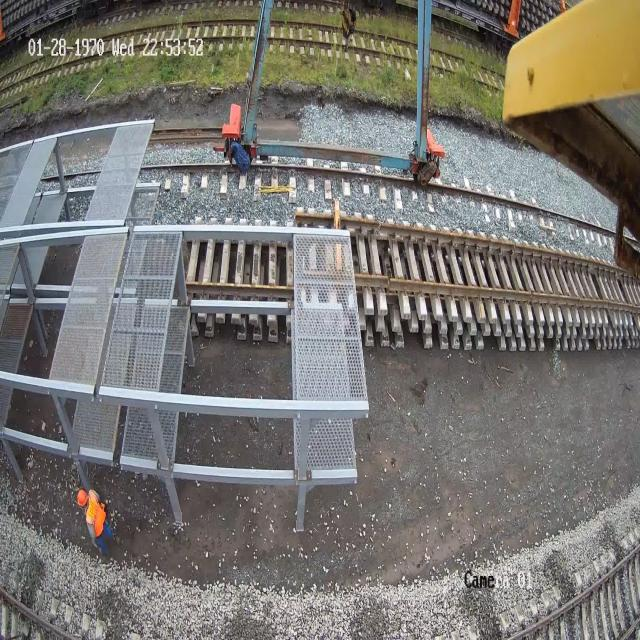Helmet: (71, 484, 94, 514)
Person: (72, 489, 116, 559)
